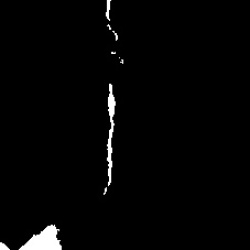crack: (0, 225, 63, 249), (103, 83, 116, 195), (108, 26, 119, 39), (107, 0, 110, 22)
pinhole: (119, 57, 125, 63), (110, 48, 115, 55)
